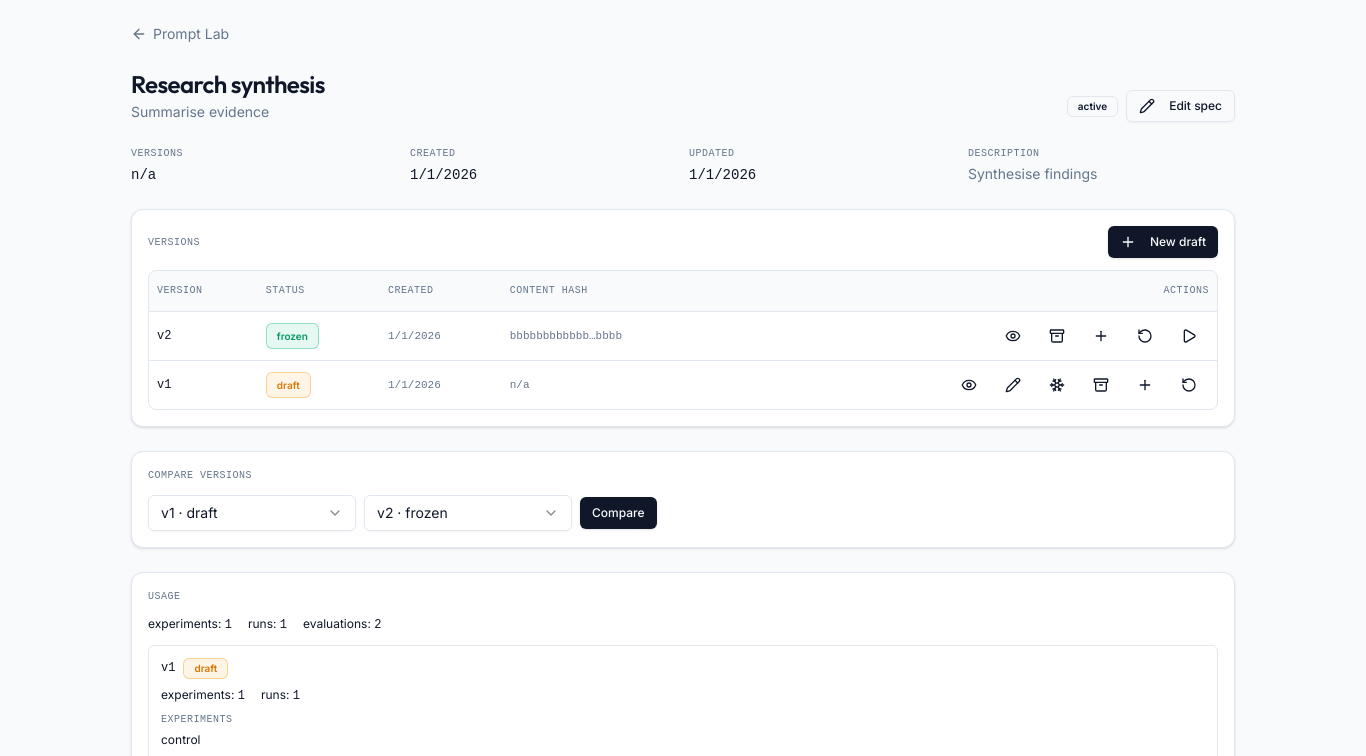
Test: compare renders the diff lines, fields and summary from the backend
The width and height of the screenshot is (1366, 756).
Click the button with test id "prompt-compare". click: coordinates (618, 512)
box: [580,496,656,528]
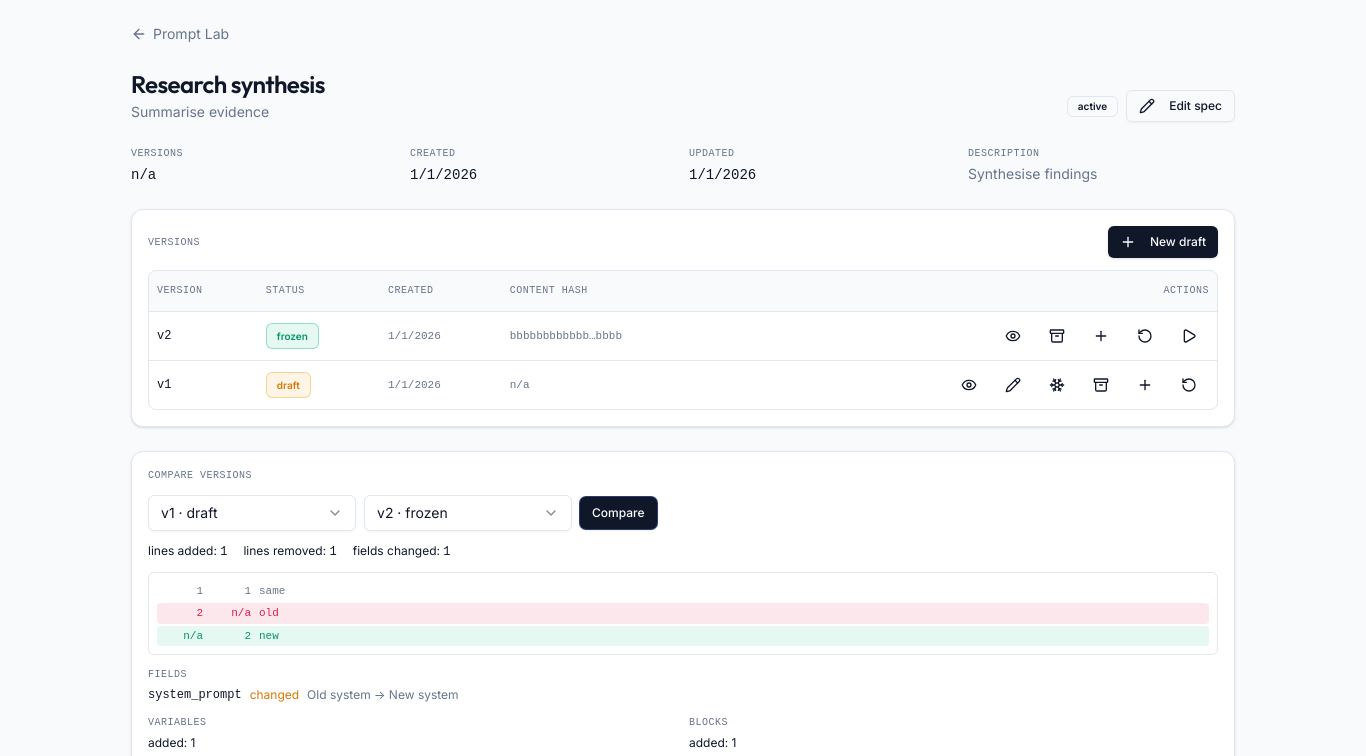
Expected: the number of elements with test id "prompt-diff-line" is 3, [196,584,285,596]; [157,603,1209,624]; [157,626,1209,646]
Expected: the element with test id "prompt-diff-line" shows "old", [259,607,279,619]
Expected: the element with test id "prompt-diff-line" shows "new", [259,630,279,642]
